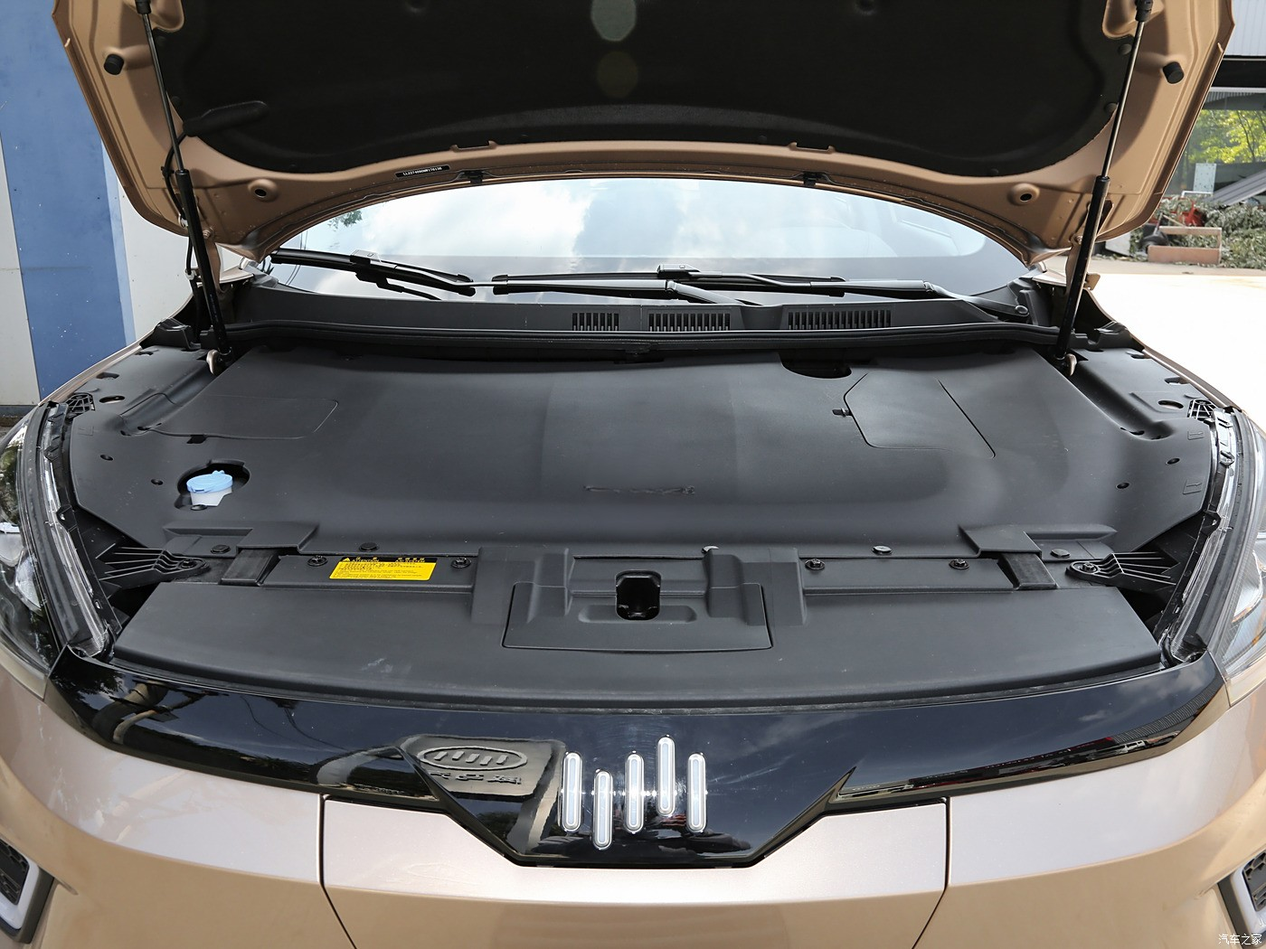WELTMEISTER: (563, 738, 705, 846)
